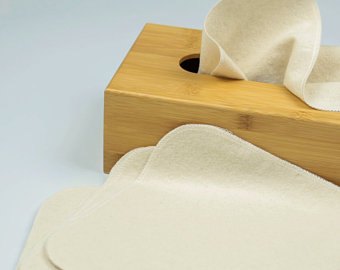Tissue: (194, 1, 340, 112)
